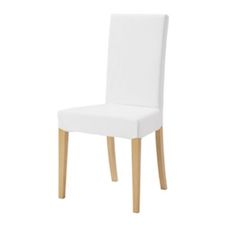chair: (46, 8, 183, 217)
